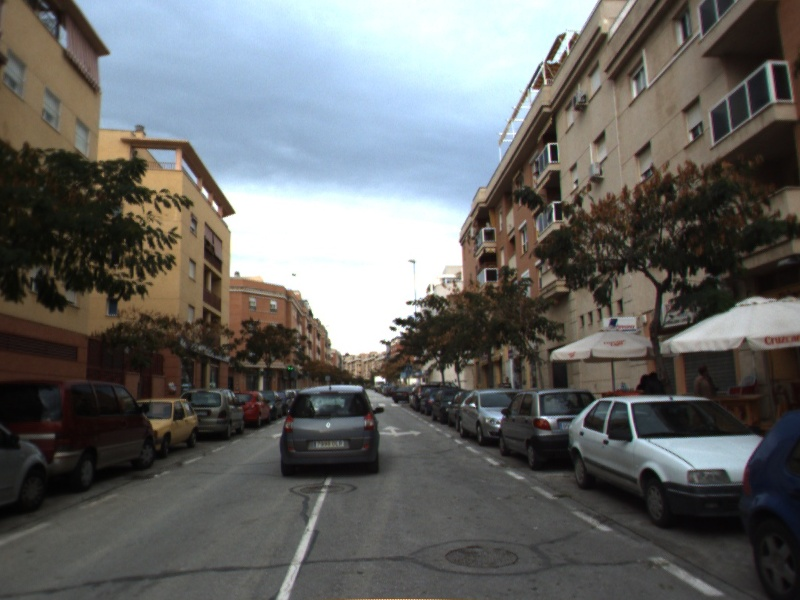STRAIGHT_LEFT_RIGHT: (379, 424, 424, 438)
